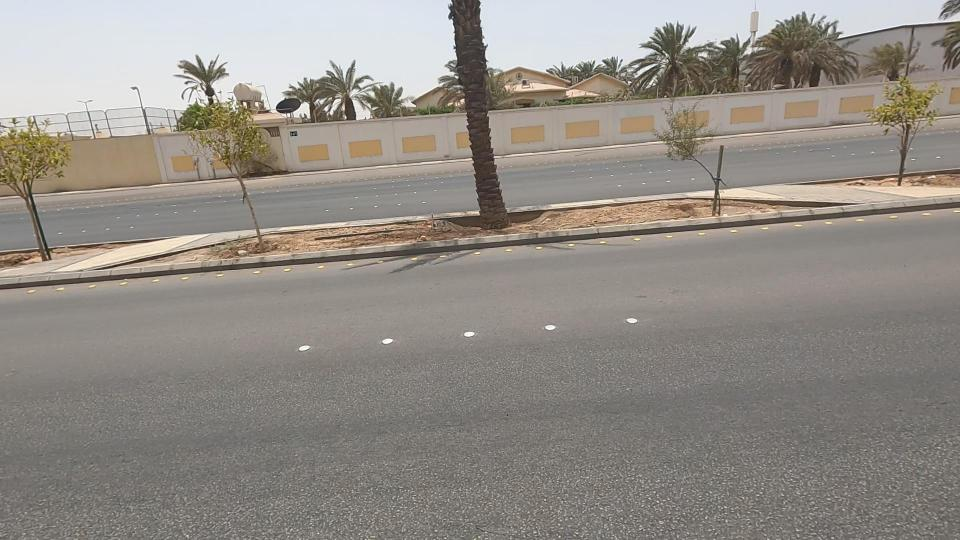CLUTTER_SIDEWALK: (211, 187, 545, 289), (483, 161, 762, 260)
